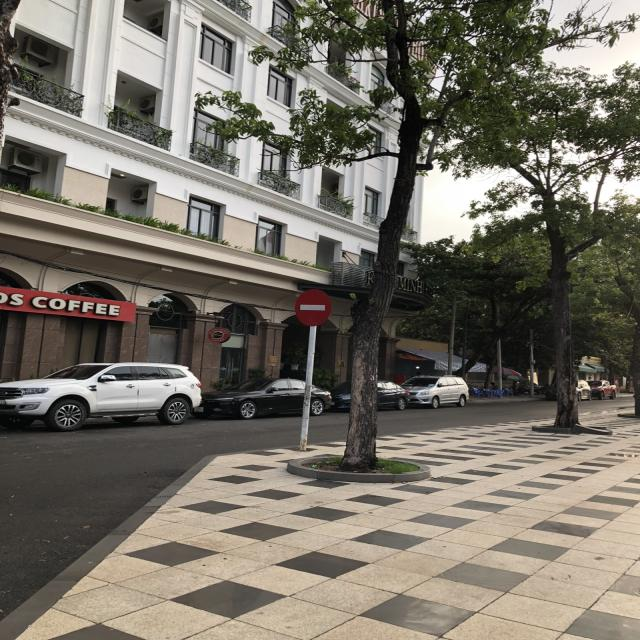Bien bao cam di nguoc chieu: (293, 287, 336, 329)
